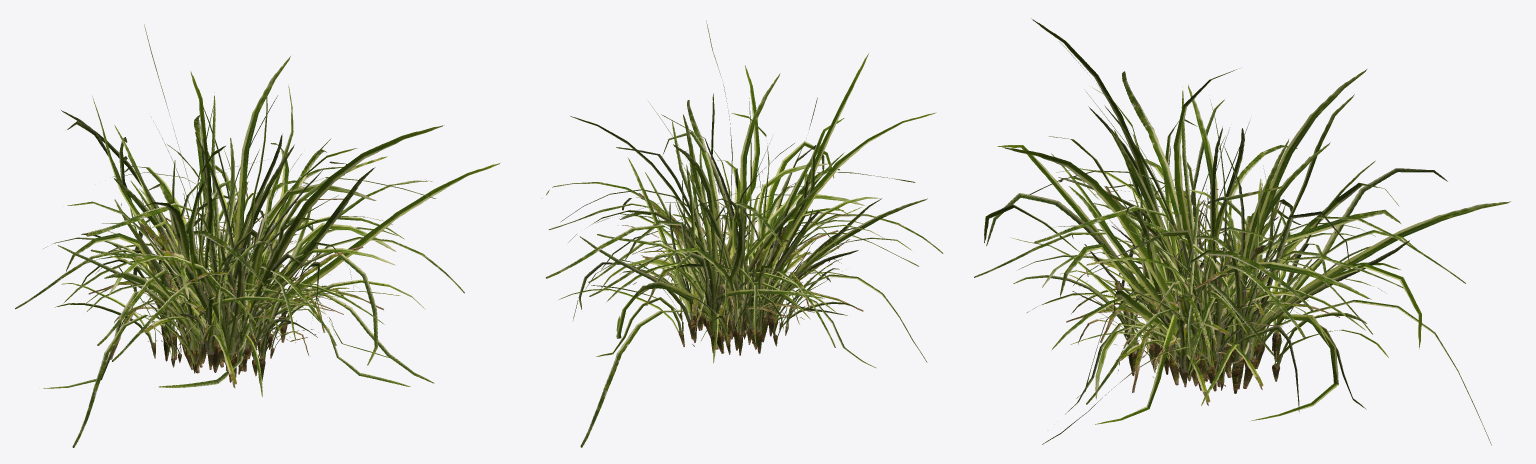
The model's file is tbdpec3r_tier_3_nonUE.gltf.
3 renders of one model, left to right at view 1: azimuth 30°, elevation 25°; view 2: azimuth 150°, elevation 25°; view 3: azimuth 270°, elevation 25°, orthographic. The views are drawn at different scales.
Visible parts, largest first — view 1: SM_tbdpec3r_VarA, SM_tbdpec3r_VarB, SM_tbdpec3r_VarC, SM_tbdpec3r_VarD, SM_tbdpec3r_VarE, SM_tbdpec3r_VarF; view 2: SM_tbdpec3r_VarA, SM_tbdpec3r_VarB, SM_tbdpec3r_VarC, SM_tbdpec3r_VarD, SM_tbdpec3r_VarE, SM_tbdpec3r_VarF; view 3: SM_tbdpec3r_VarA, SM_tbdpec3r_VarB, SM_tbdpec3r_VarC, SM_tbdpec3r_VarD, SM_tbdpec3r_VarE, SM_tbdpec3r_VarF.
Boxes of the visible parts, x1,y1,x2,y2 form: SM_tbdpec3r_VarA: (15,24,499,447); SM_tbdpec3r_VarB: (43,71,434,388); SM_tbdpec3r_VarC: (43,107,464,396); SM_tbdpec3r_VarD: (108,84,400,374); SM_tbdpec3r_VarE: (121,177,313,367); SM_tbdpec3r_VarF: (157,240,334,358); SM_tbdpec3r_VarA: (541,21,936,447); SM_tbdpec3r_VarB: (559,65,911,368); SM_tbdpec3r_VarC: (561,143,943,363); SM_tbdpec3r_VarD: (616,114,861,339); SM_tbdpec3r_VarE: (617,180,859,341); SM_tbdpec3r_VarF: (633,225,813,346); SM_tbdpec3r_VarA: (974,18,1510,445); SM_tbdpec3r_VarB: (984,69,1447,444); SM_tbdpec3r_VarC: (1018,105,1409,405); SM_tbdpec3r_VarD: (1011,146,1358,383); SM_tbdpec3r_VarE: (1094,188,1299,382); SM_tbdpec3r_VarF: (1089,240,1330,386).
Size of what is drawn, in the model's own units: 0.7082 by 0.541 by 0.7287.
1 material, 1 textured.
